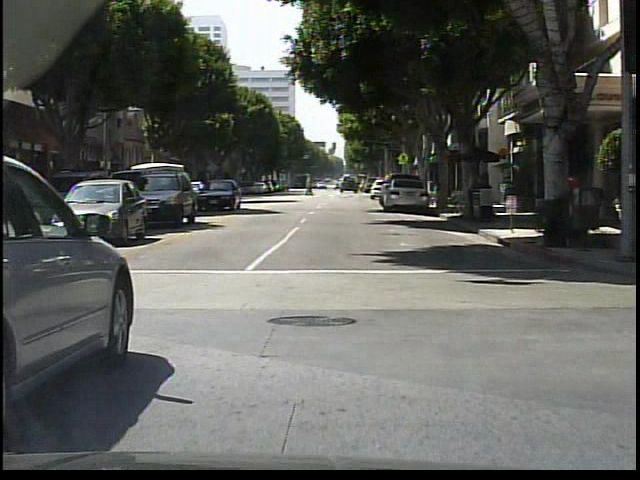person: (564, 168, 580, 236), (470, 167, 486, 221), (304, 178, 314, 197)
